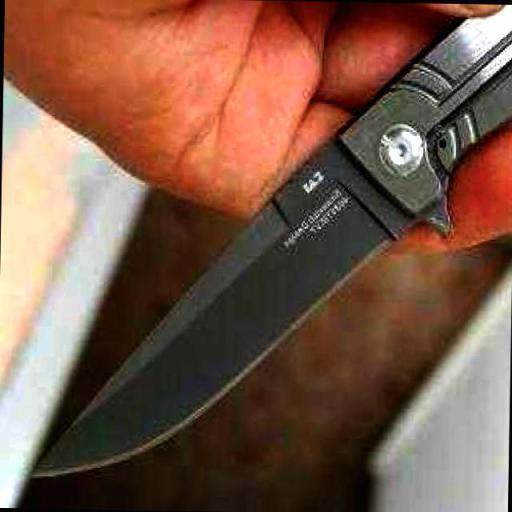knife: (17, 0, 512, 495)
